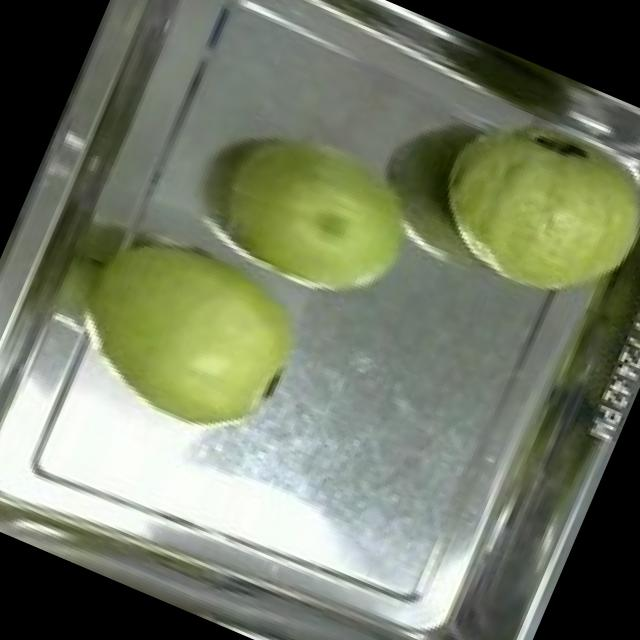Fruit: (46, 186, 339, 467), (177, 90, 450, 342), (403, 82, 640, 334)
